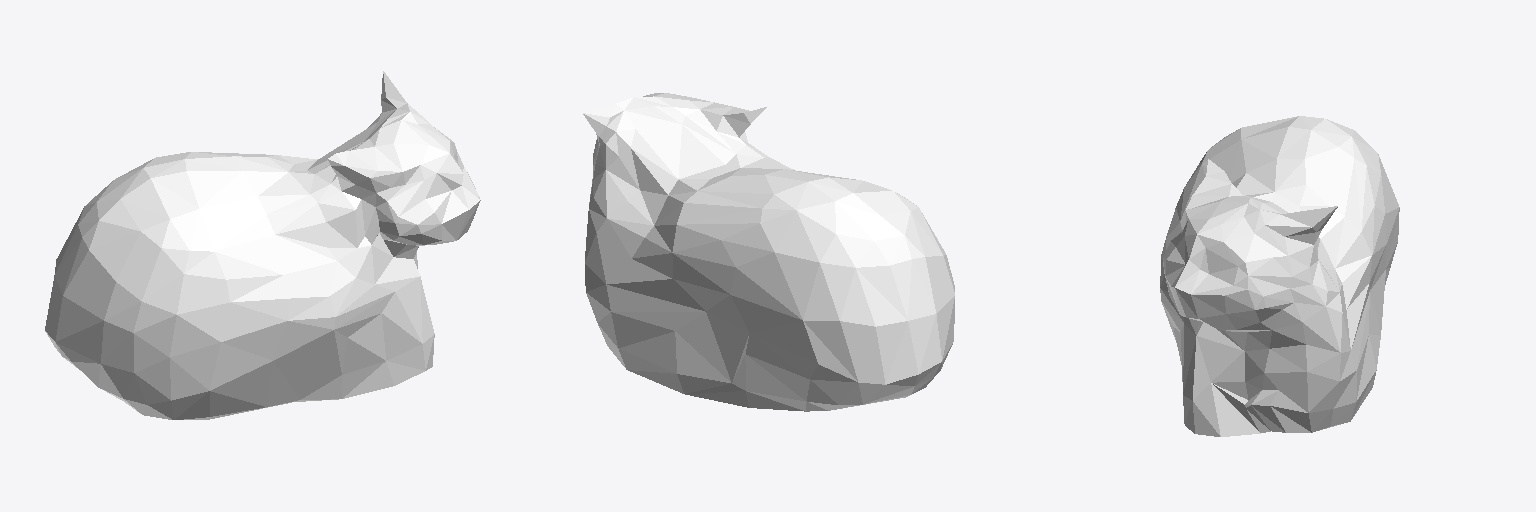
File: last.obj
3 views of the same model, side by side, from view 1: azimuth 30°, elevation 25°; view 2: azimuth 150°, elevation 25°; view 3: azimuth 270°, elevation 25° (orthographic).
Visible parts, largest first — view 1: dingus_Mesh; view 2: dingus_Mesh; view 3: dingus_Mesh.
Boxes of the visible parts, x1,y1,x2,y2 form: dingus_Mesh: [45, 71, 480, 419]; dingus_Mesh: [583, 93, 954, 411]; dingus_Mesh: [1160, 116, 1399, 436].
Size of the model in its own units: 2.69 by 1.73 by 1.49.